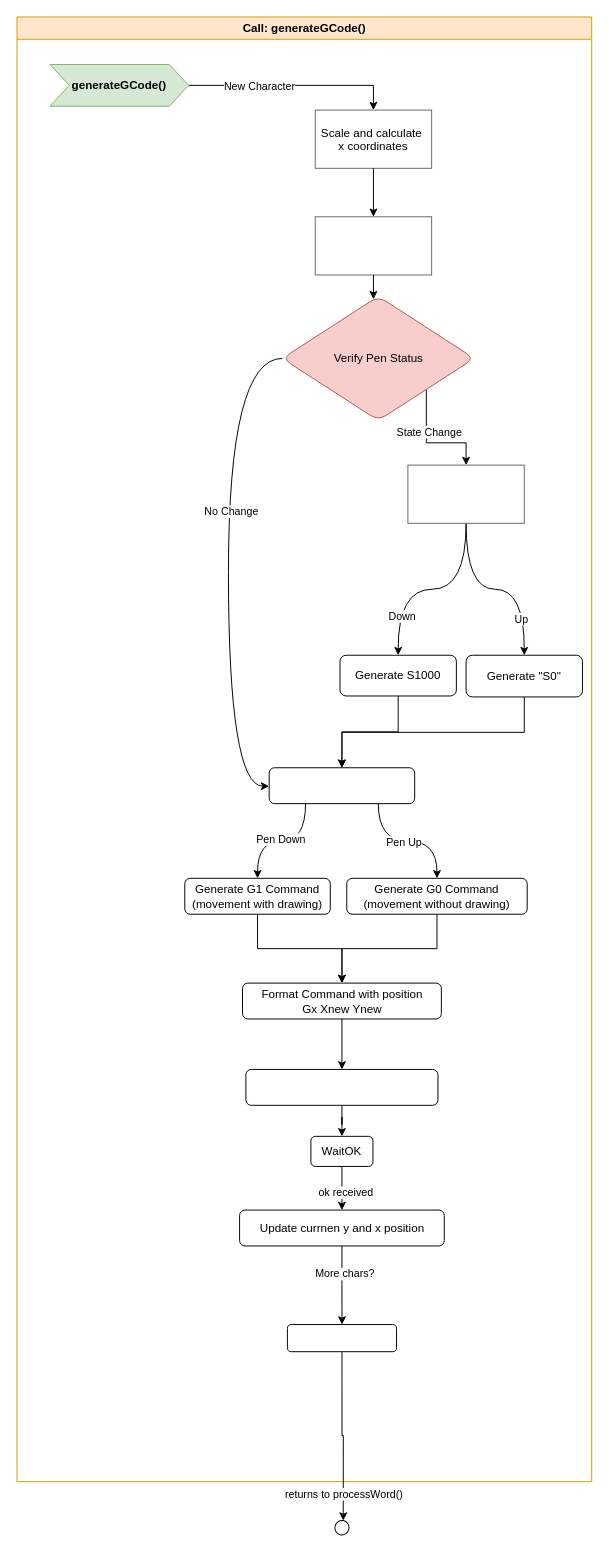
The diagram is 609 pixels wide and 1554 high, and some of its shapes have lost their labels. The shapes that lost their labels are listed below. From the top down, each one's centre as x and y in pixels, then its label:
At point (373, 245): "Scale x and calculate y coordinates".
At point (465, 493): "Generate pen command".
At point (341, 785): "Select Movement Type".
At point (341, 1086): "Send to robot via SendCommands".
At point (341, 1338): "CheckMore".
